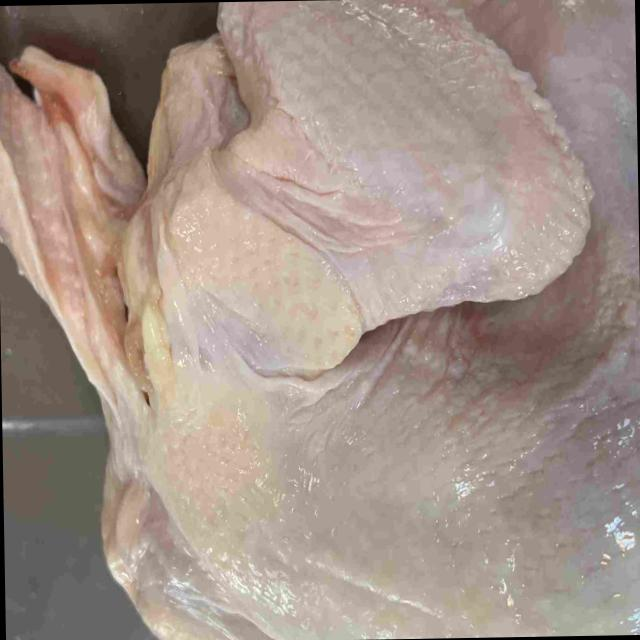back: (246, 379, 640, 640)
leg: (491, 0, 640, 413)
neck: (0, 40, 145, 424)
wing: (162, 0, 590, 385), (100, 449, 259, 640)
